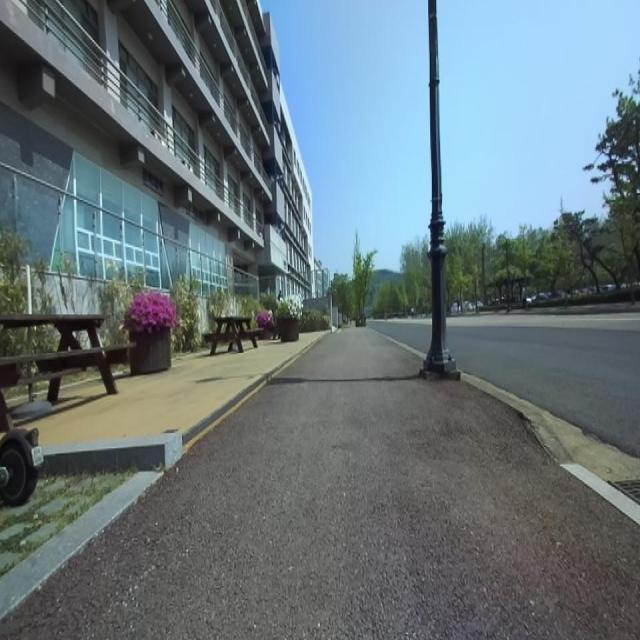sidewalk: (0, 327, 640, 639), (562, 464, 640, 524)
